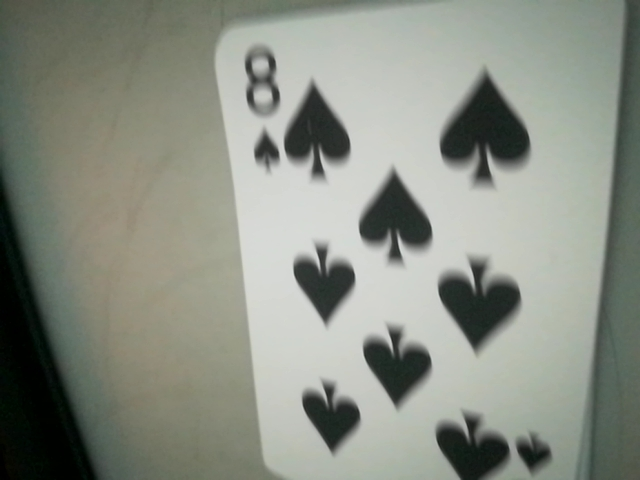ht 8: (231, 37, 300, 190)
